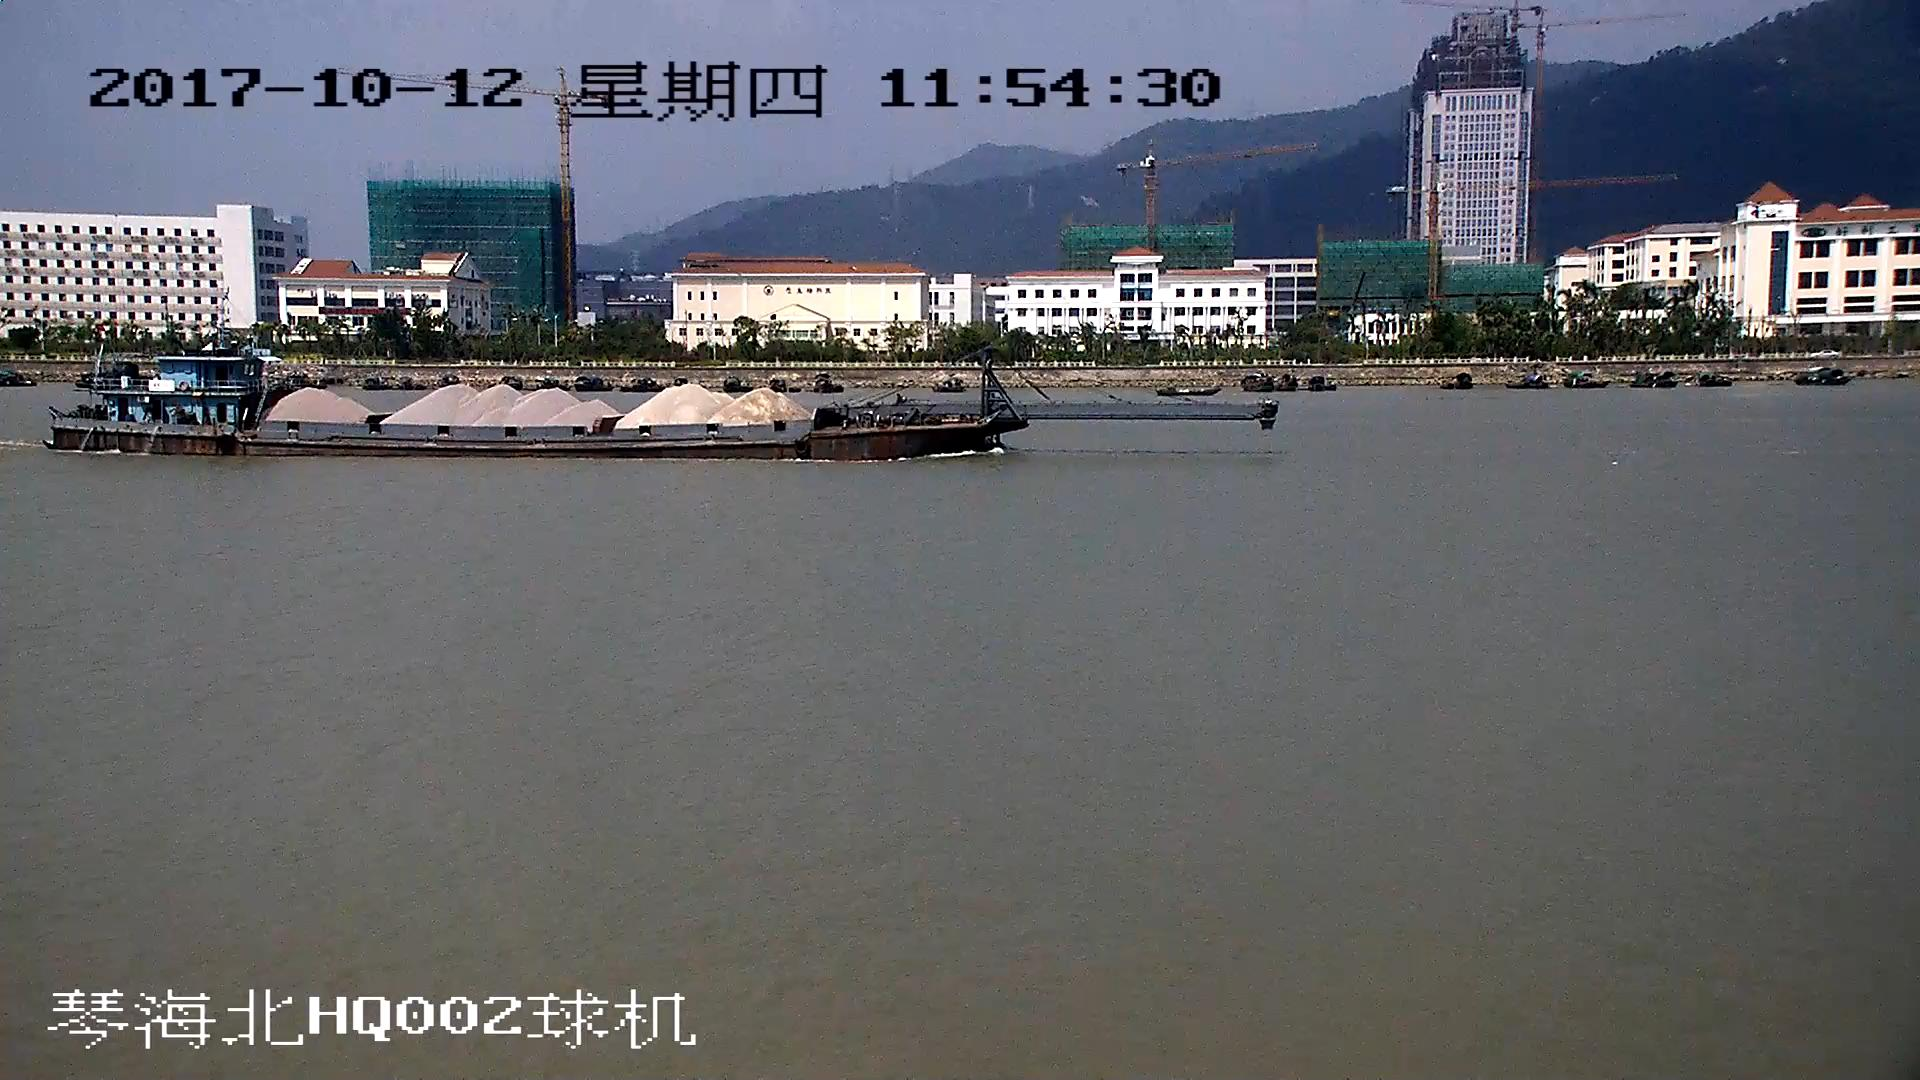ore carrier: (49, 345, 1273, 458)
